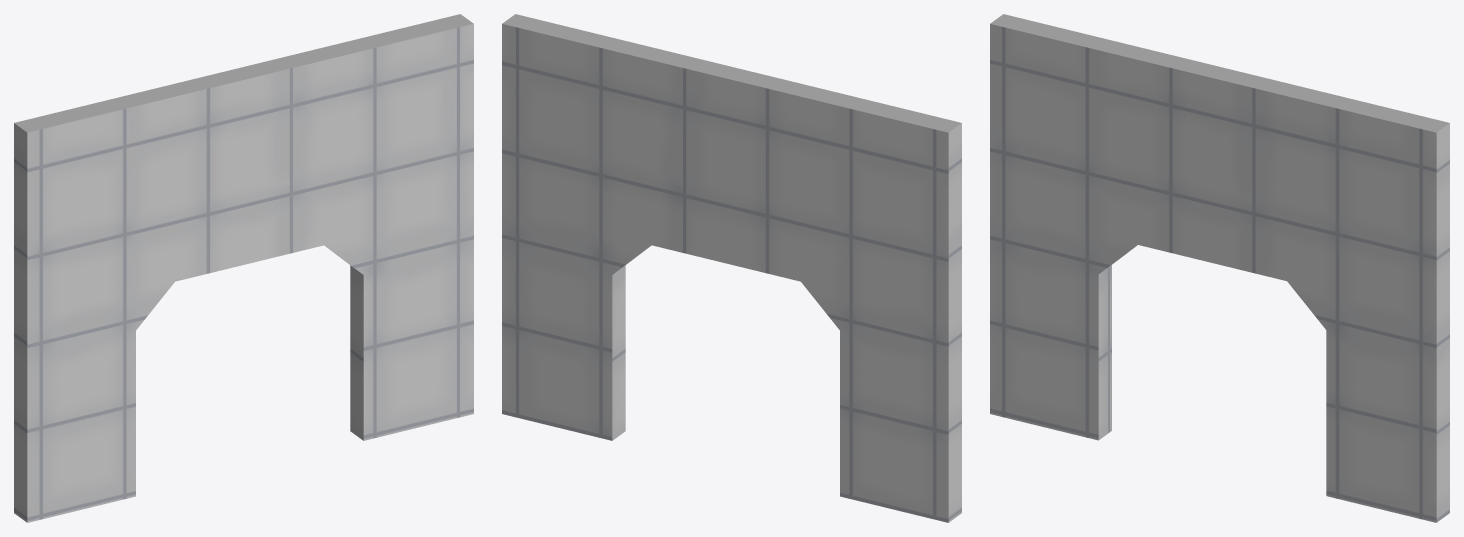
The model's file is Doorway_Small.fbx.
The picture shows the model from 3 angles, left to right: view 1: azimuth 30°, elevation 25°; view 2: azimuth 150°, elevation 25°; view 3: azimuth 330°, elevation 25°; orthographic projection.
Parts seen in each view (by area): view 1: pCube17; view 2: pCube17; view 3: pCube17.
Part boxes in pixels (x1,y1,x2,y2): pCube17: [14, 14, 473, 522]; pCube17: [502, 14, 961, 522]; pCube17: [990, 14, 1449, 522].
Bounding box in the file's own units: 963 × 804 × 50.
2 materials, 1 textured.
